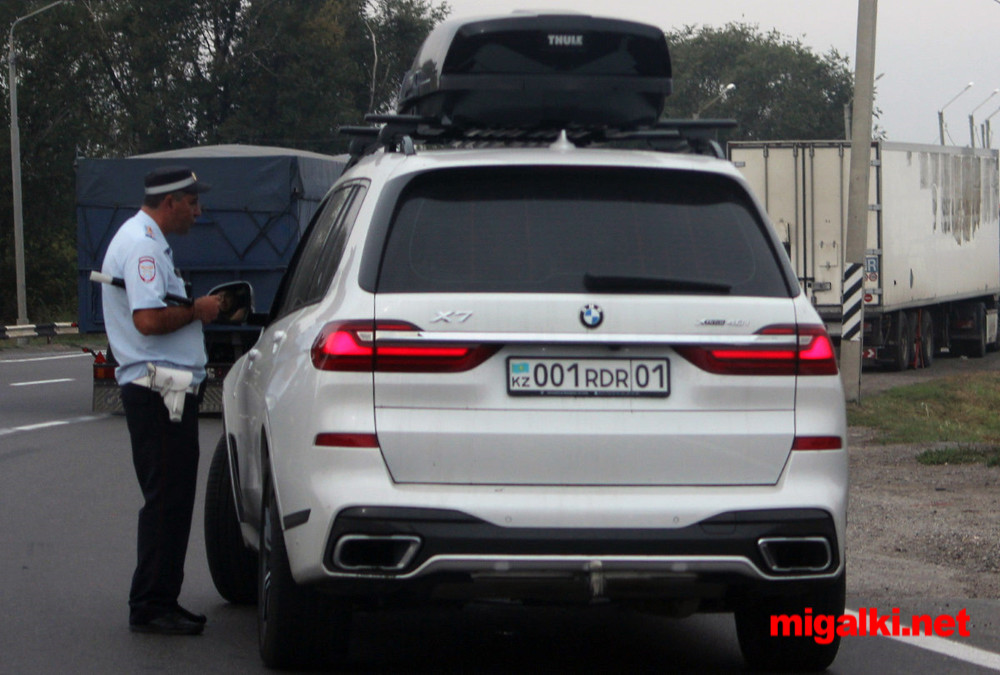license_plate: (504, 354, 677, 398)
